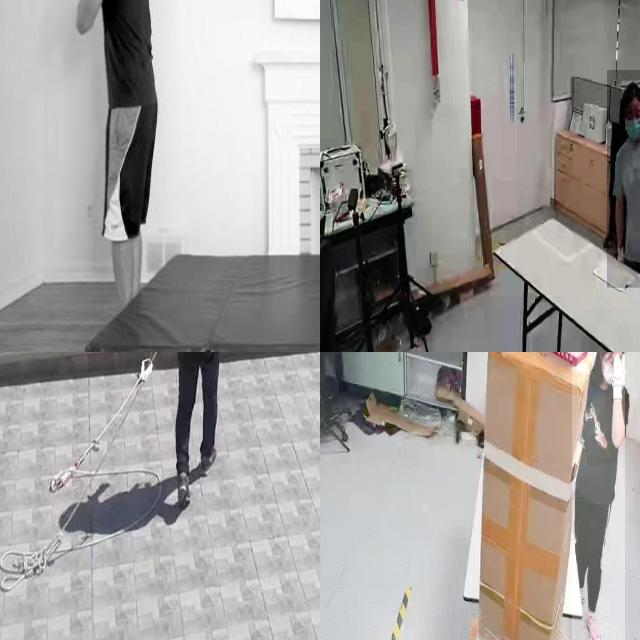Harness: (0, 352, 162, 593)
face_mask: (619, 99, 640, 142)
hand_glove: (611, 352, 626, 402)
head_nohelmet: (621, 80, 640, 99)
person: (75, 0, 159, 310), (572, 352, 625, 640), (607, 70, 640, 288)
shoes: (583, 605, 602, 640)
